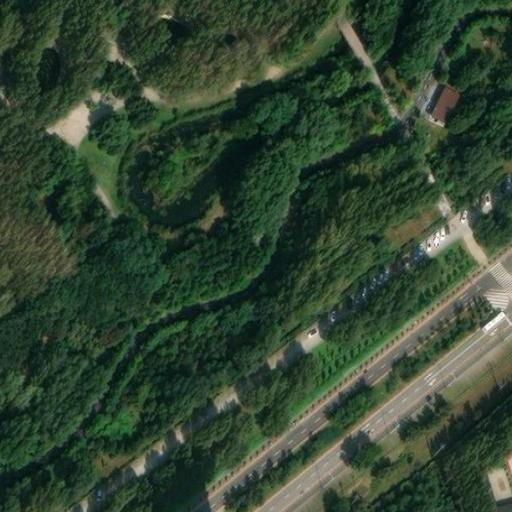building: (379, 193, 448, 248), (428, 76, 466, 121)
